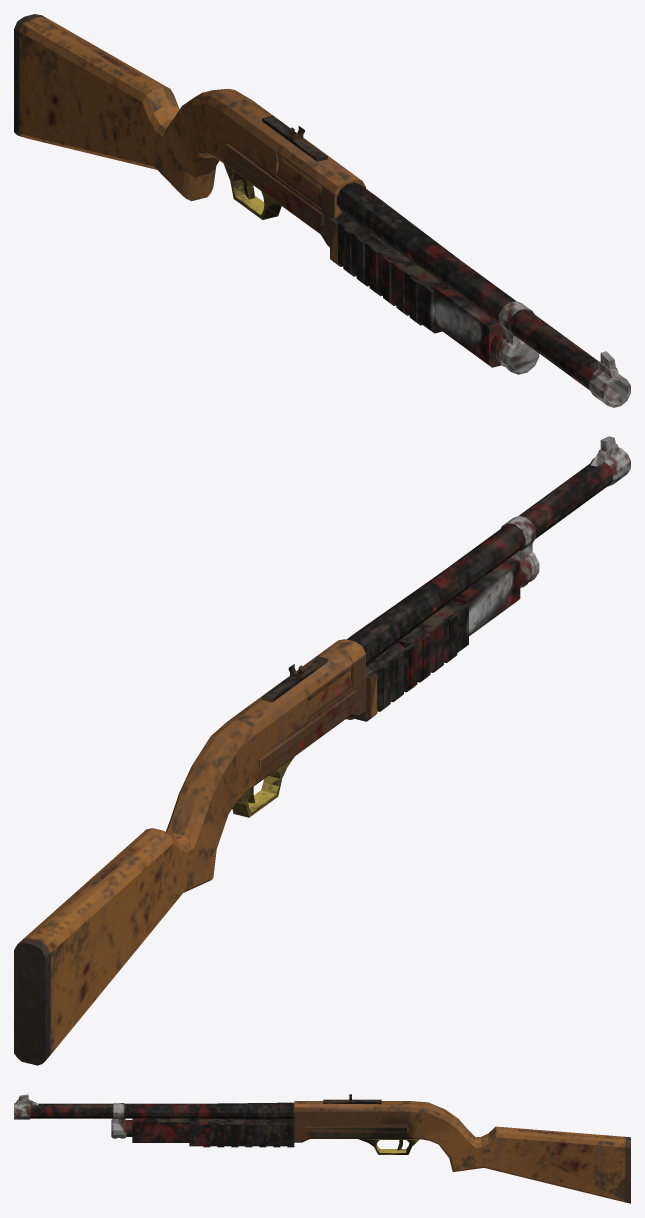
The model's file is gun1.fbx.
The picture shows the model from 3 angles, top to bottom: view 1: azimuth 30°, elevation 25°; view 2: azimuth 150°, elevation 25°; view 3: azimuth 270°, elevation 25°; orthographic projection. The views are drawn at different scales.
Parts seen in each view (by area): view 1: Cylinder2_copy3, Cube4; view 2: Cylinder2_copy3, Cube4; view 3: Cylinder2_copy3, Cube4.
Part boxes in pixels (box(x1,y1,x2,y2)): Cylinder2_copy3: box(14, 14, 630, 407); Cube4: box(330, 217, 502, 367); Cylinder2_copy3: box(14, 436, 630, 1065); Cube4: box(355, 558, 520, 721); Cylinder2_copy3: box(14, 1094, 630, 1203); Cube4: box(132, 1118, 294, 1147).
Size of the model in its own units: 1.3 by 6.16 by 32.35.
8 materials, 8 textured.
